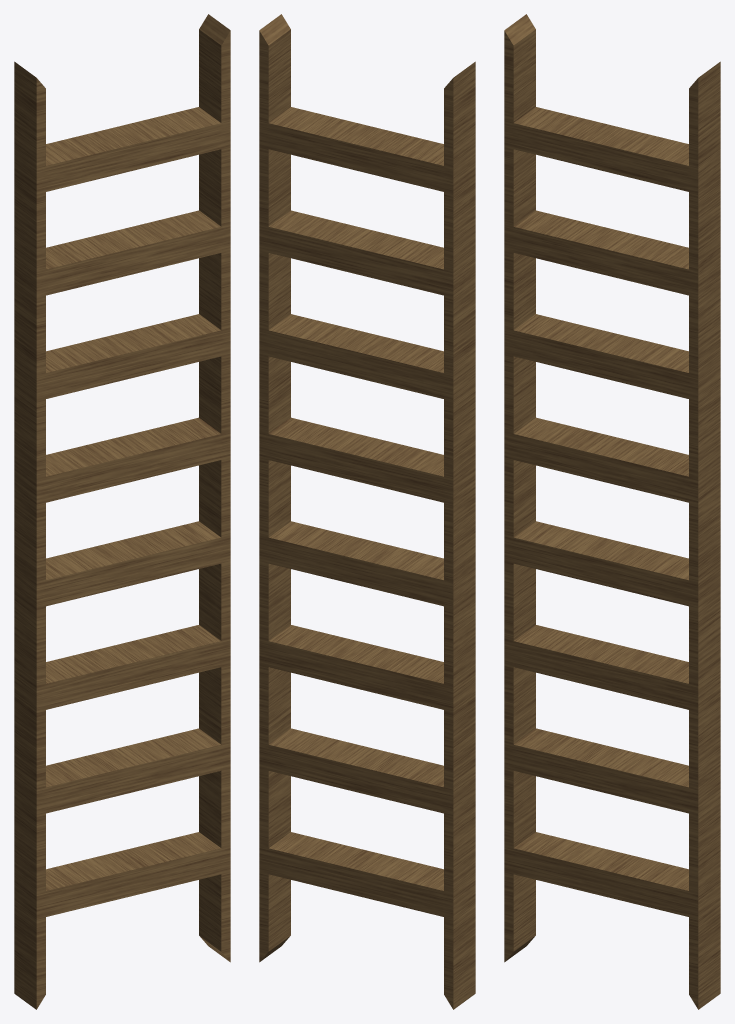
The model's file is Ladder.fbx.
3 views of the same model, side by side, from view 1: azimuth 30°, elevation 25°; view 2: azimuth 150°, elevation 25°; view 3: azimuth 330°, elevation 25° (orthographic).
Parts seen in each view (by area): view 1: Cube.006; view 2: Cube.006; view 3: Cube.006.
Part boxes in pixels (x1,y1,x2,y2): Cube.006: (14,14,230,1009); Cube.006: (259,14,475,1009); Cube.006: (504,14,720,1009).
Size of the model in its own units: 19.23 by 96.44 by 443.
1 material, 1 textured.
